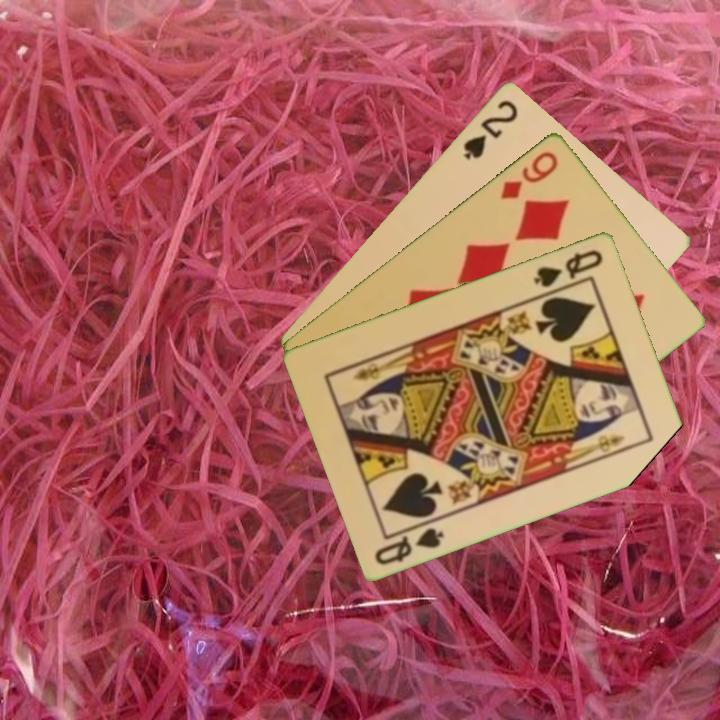2s: (460, 95, 521, 162)
9d: (497, 147, 562, 202)
Qs: (371, 515, 447, 568), (529, 245, 606, 290)
